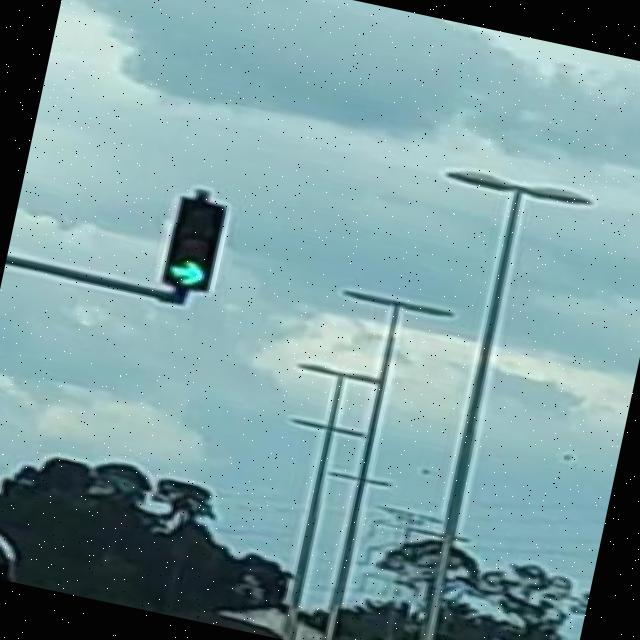green_light: (154, 192, 227, 291)
